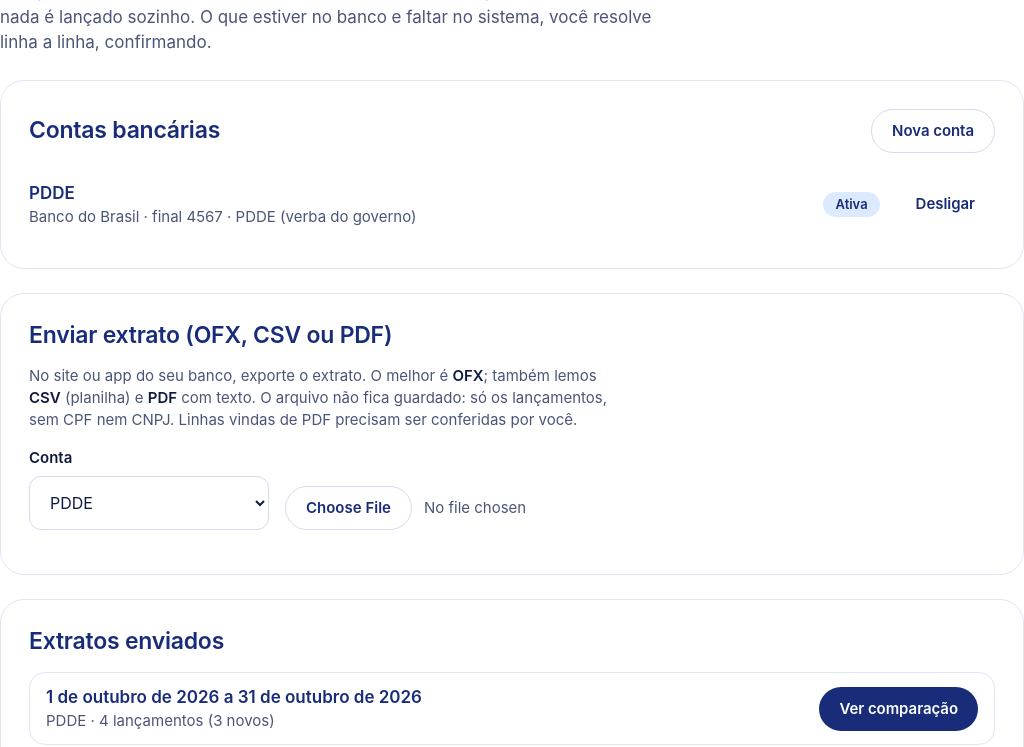
Test: datas do extrato › numa conta do PDDE as linhas que faltam levam ao PDDE e nao ao caixa da APM
Click the button with aria-label "Ver a comparação do extrato" at (899, 709), box left=819, top=687, right=978, bottom=731
(page scrolled)
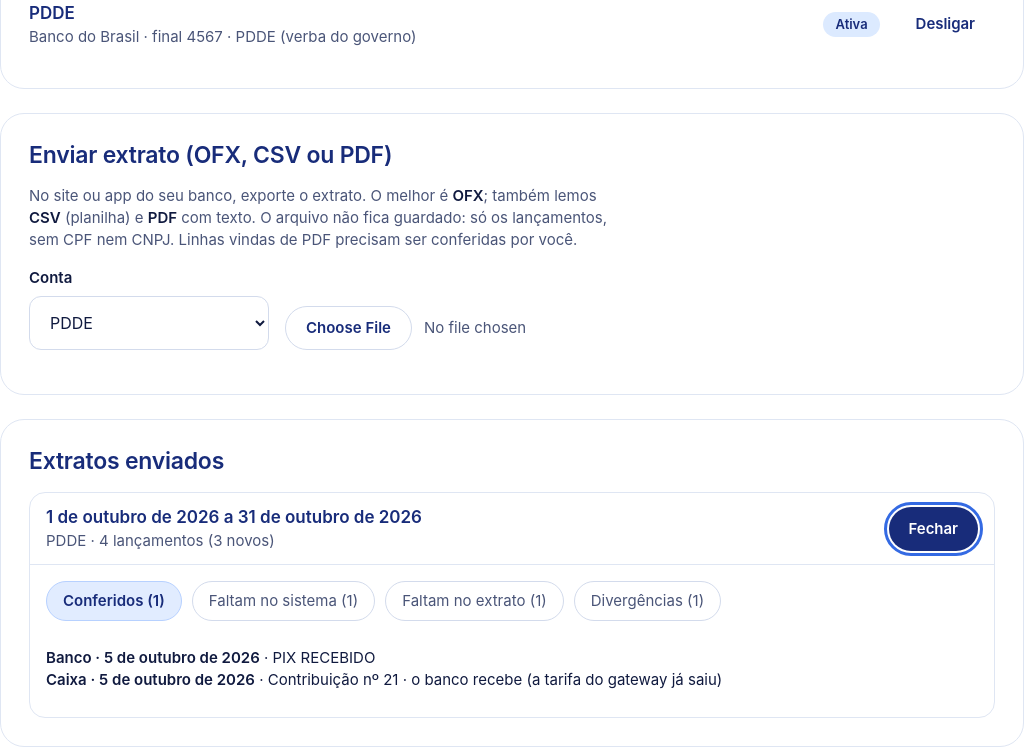
Click the button "Faltam no sistema (1)" at (284, 601), box left=192, top=581, right=375, bottom=621
(page scrolled)
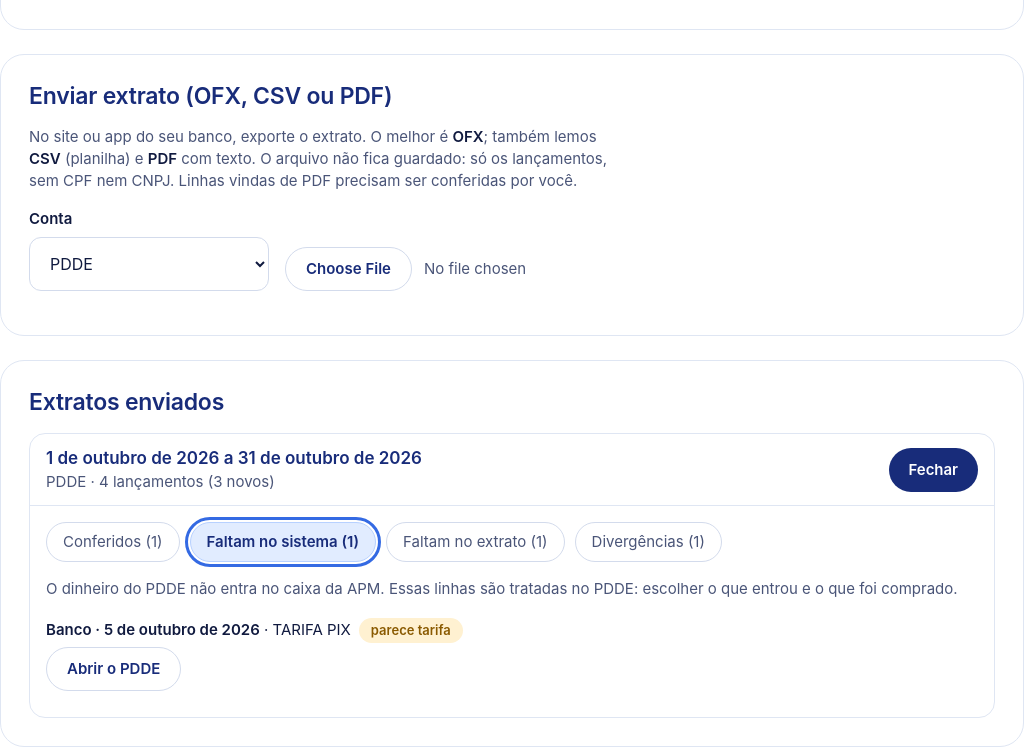
Check: the text "não entra no caixa da APM" is shown, box left=46, top=579, right=958, bottom=598
